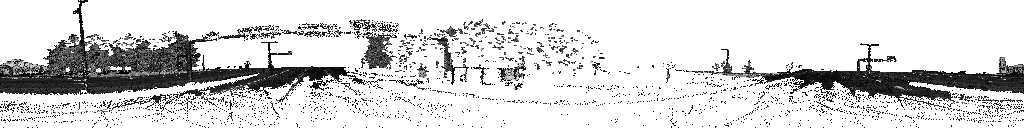gantry_sign_pole: (185, 20, 447, 83), (856, 55, 899, 75), (261, 42, 291, 70)
light_pole: (73, 0, 89, 92), (860, 44, 878, 75), (719, 46, 730, 73)
traffic_pole: (662, 63, 675, 76), (244, 62, 250, 77)
